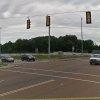Traffic light: (9, 8, 56, 38)
